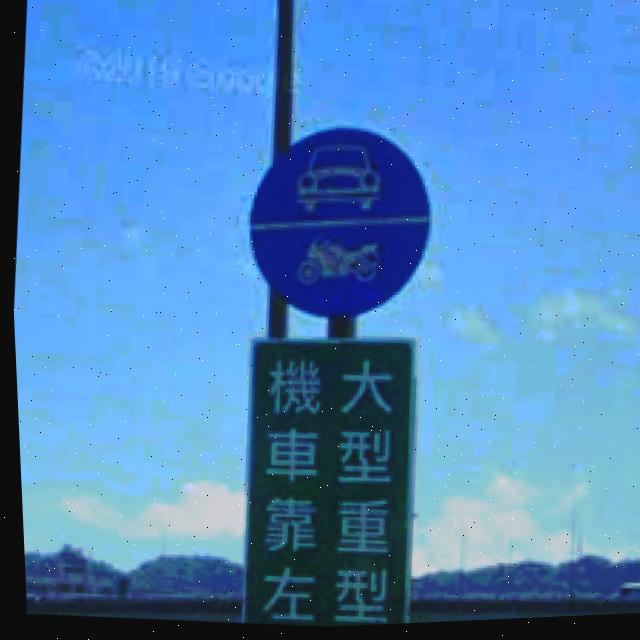carmotorcycle: (248, 131, 427, 320)
